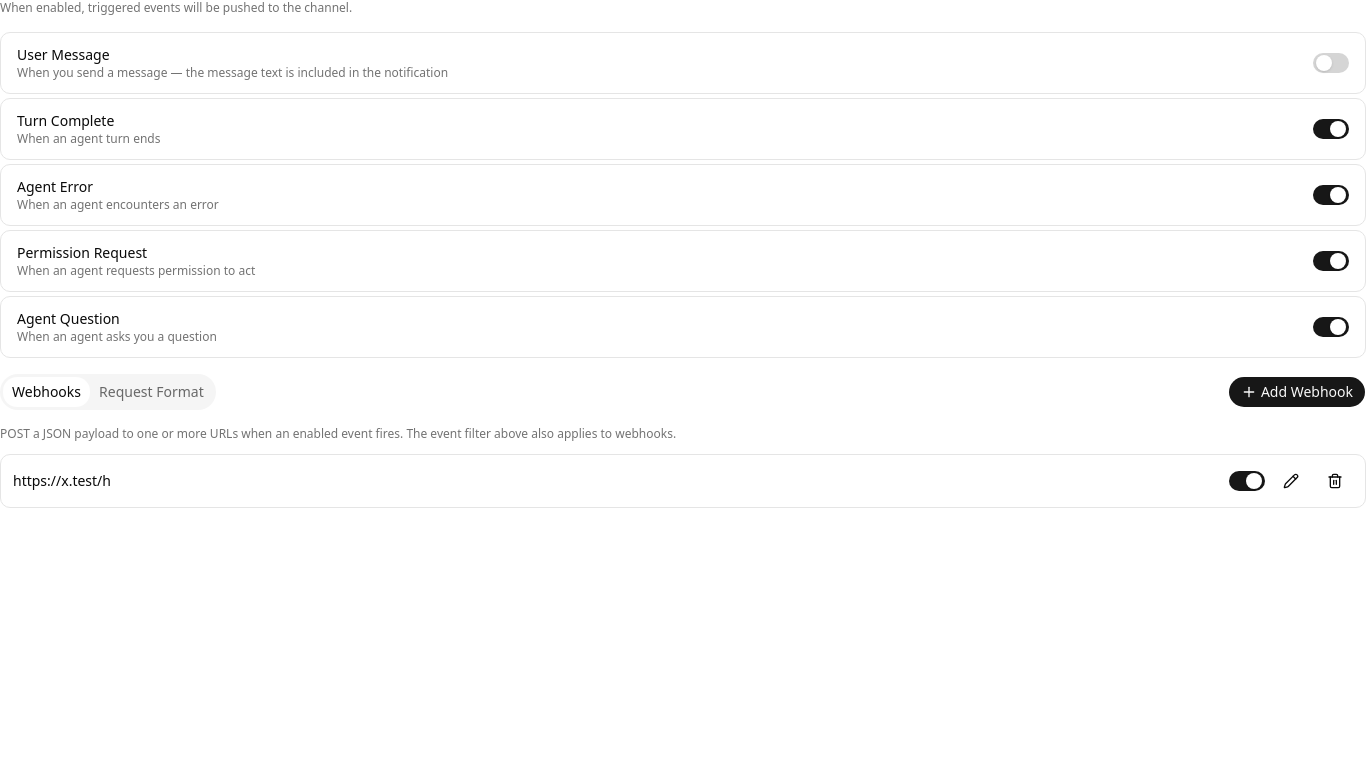
Scenario: ChannelEventsTab webhooks › deletes a webhook only after confirming in the alert dialog
Later steps or results of the test are not shown.
Expected: the text "https://x.test/h" is shown, [13, 471, 111, 490]
Opening the confirm dialog must not persist anything on its own.
Click the button named "Remove webhook": (1335, 481) [1317, 463, 1353, 499]
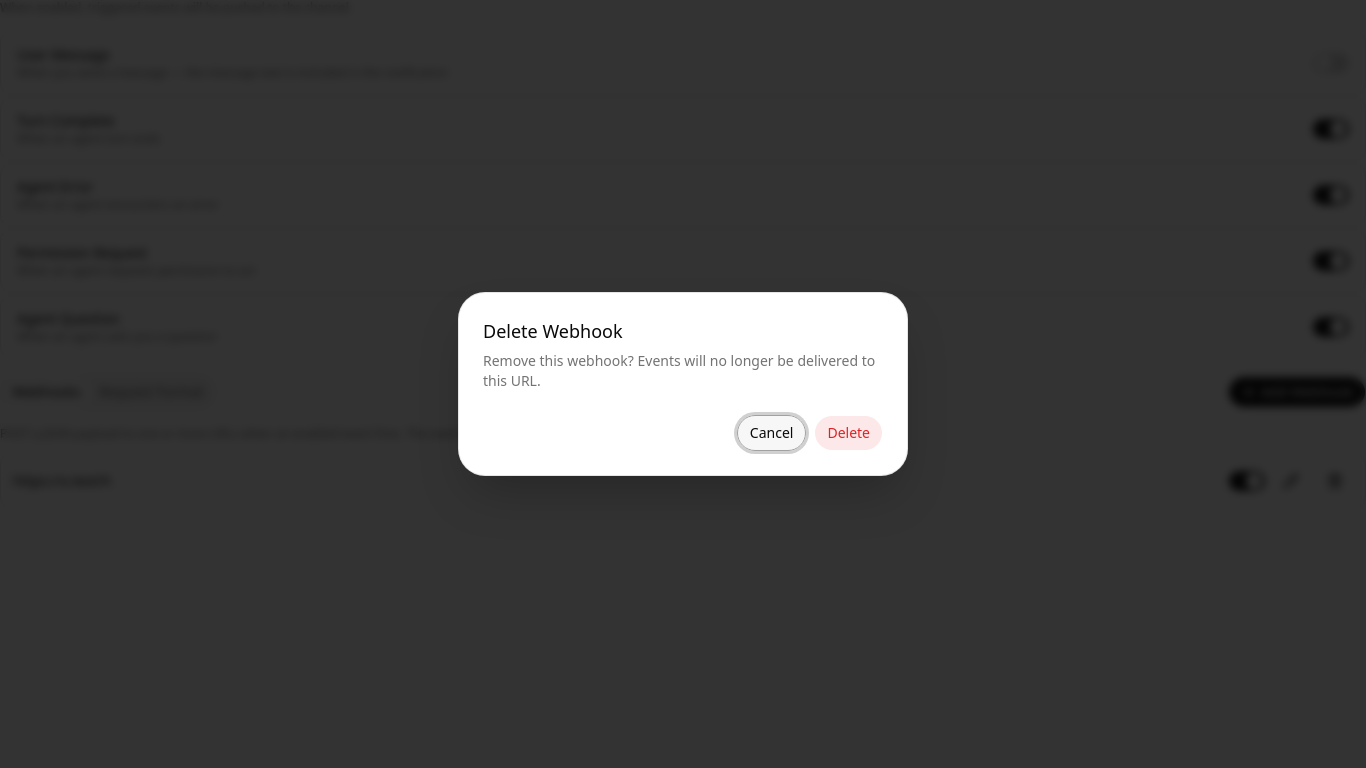
Now the button "Delete" is shown, box [814, 415, 883, 451]
